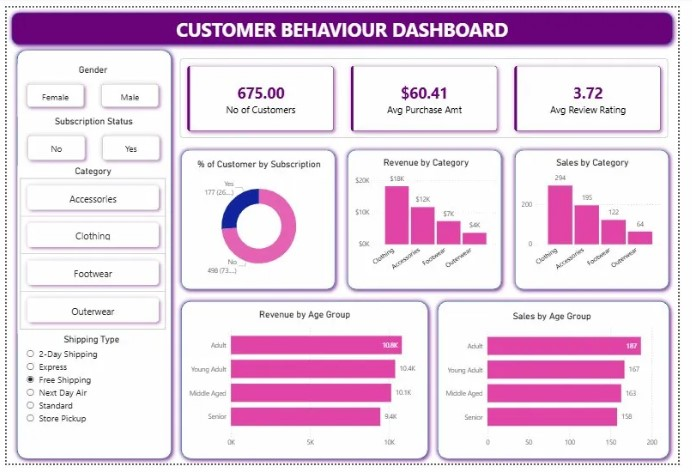

What the dashboard file says about the page in this screenshot:
{"tool":"powerbi","page":{"name":"Page 1","canvas":[1250,850],"ordinal":0},"visuals":[{"type":"cardVisual","fields":{"Data":["cleaned_df.No of Customers","cleaned_df.Avg Purchase Amt","cleaned_df.Avg Review Rating"]},"box":[306,78,944,182],"z":0},{"type":"shape","box":[0,0,1250,78],"z":1000},{"type":"shape","box":[316,538,478,312],"z":2000},{"type":"shape","box":[626.7,255,305,278.3],"z":3000},{"type":"shape","box":[938.3,255,305,278.3],"z":4000},{"type":"shape","box":[315,256.7,305,278.3],"z":4000,"group":"g1"},{"type":"shape","box":[794,538,450,312],"z":5000},{"type":"group","id":"g1","title":"Group 1","box":[315,256.7,305,278.3],"z":6000},{"type":"clusteredColumnChart","title":"Revenue by Category","fields":{"Category":["cleaned_df.category"],"Y":["Sum(cleaned_df.purchase_amount)"]},"box":[643.3,278.3,275,233.3],"z":7000},{"type":"donutChart","title":"% of Customer by Subscription","fields":{"Y":["Count(cleaned_df.customer_id)"],"Category":["cleaned_df.subscription_status"]},"box":[345,281.7,248.3,231.7],"z":7500,"group":"g1"},{"type":"clusteredColumnChart","title":"Sales by Category","fields":{"Category":["cleaned_df.category"],"Y":["CountNonNull(cleaned_df.customer_id)"]},"box":[953.3,278.3,275,233.3],"z":8000},{"type":"shape","box":[10,70,306,780],"z":9000},{"type":"advancedSlicerVisual","title":"Gender","fields":{"Values":["cleaned_df.gender"]},"box":[20,106.7,281.7,96.7],"z":10000},{"type":"advancedSlicerVisual","title":"Subscription Status","fields":{"Values":["cleaned_df.subscription_status"]},"box":[21.7,201.7,280,100],"z":11000},{"type":"advancedSlicerVisual","title":"Category","fields":{"Values":["cleaned_df.category"]},"box":[20,293.3,281.7,313.3],"z":12000},{"type":"listSlicer","title":"Shipping Type","fields":{"Values":["cleaned_df.shipping_type"]},"box":[30,608,256,226],"z":13000},{"type":"clusteredBarChart","title":"Revenue by Age Group","fields":{"Category":["cleaned_df.age_group"],"Y":["Sum(cleaned_df.purchase_amount)"]},"box":[330,562,450,266],"z":14000},{"type":"clusteredBarChart","title":"Sales by Age Group","fields":{"Category":["cleaned_df.age_group"],"Y":["CountNonNull(cleaned_df.purchase_amount)"]},"box":[808,564,416,264],"z":15000}]}

Visuals, with their boxes in screenshot pixels (x1, y1, x2, y2), scaled from the page's 1250x850 canvas onto the 692x472 screenshot:
cardVisual - cleaned_df.No of Customers x cleaned_df.Avg Purchase Amt: select_region(169, 43, 691, 144)
shape: select_region(0, 0, 691, 43)
shape: select_region(175, 299, 440, 471)
shape: select_region(347, 142, 516, 296)
shape: select_region(519, 142, 688, 296)
shape: select_region(174, 143, 343, 297)
shape: select_region(440, 299, 689, 471)
"Group 1" group: select_region(174, 143, 343, 297)
"Revenue by Category" clusteredColumnChart: select_region(356, 155, 508, 284)
"% of Customer by Subscription" donutChart: select_region(191, 156, 328, 285)
"Sales by Category" clusteredColumnChart: select_region(528, 155, 680, 284)
shape: select_region(6, 39, 175, 471)
"Gender" advancedSlicerVisual: select_region(11, 59, 167, 113)
"Subscription Status" advancedSlicerVisual: select_region(12, 112, 167, 168)
"Category" advancedSlicerVisual: select_region(11, 163, 167, 337)
"Shipping Type" listSlicer: select_region(17, 338, 158, 463)
"Revenue by Age Group" clusteredBarChart: select_region(183, 312, 432, 460)
"Sales by Age Group" clusteredBarChart: select_region(447, 313, 678, 460)
